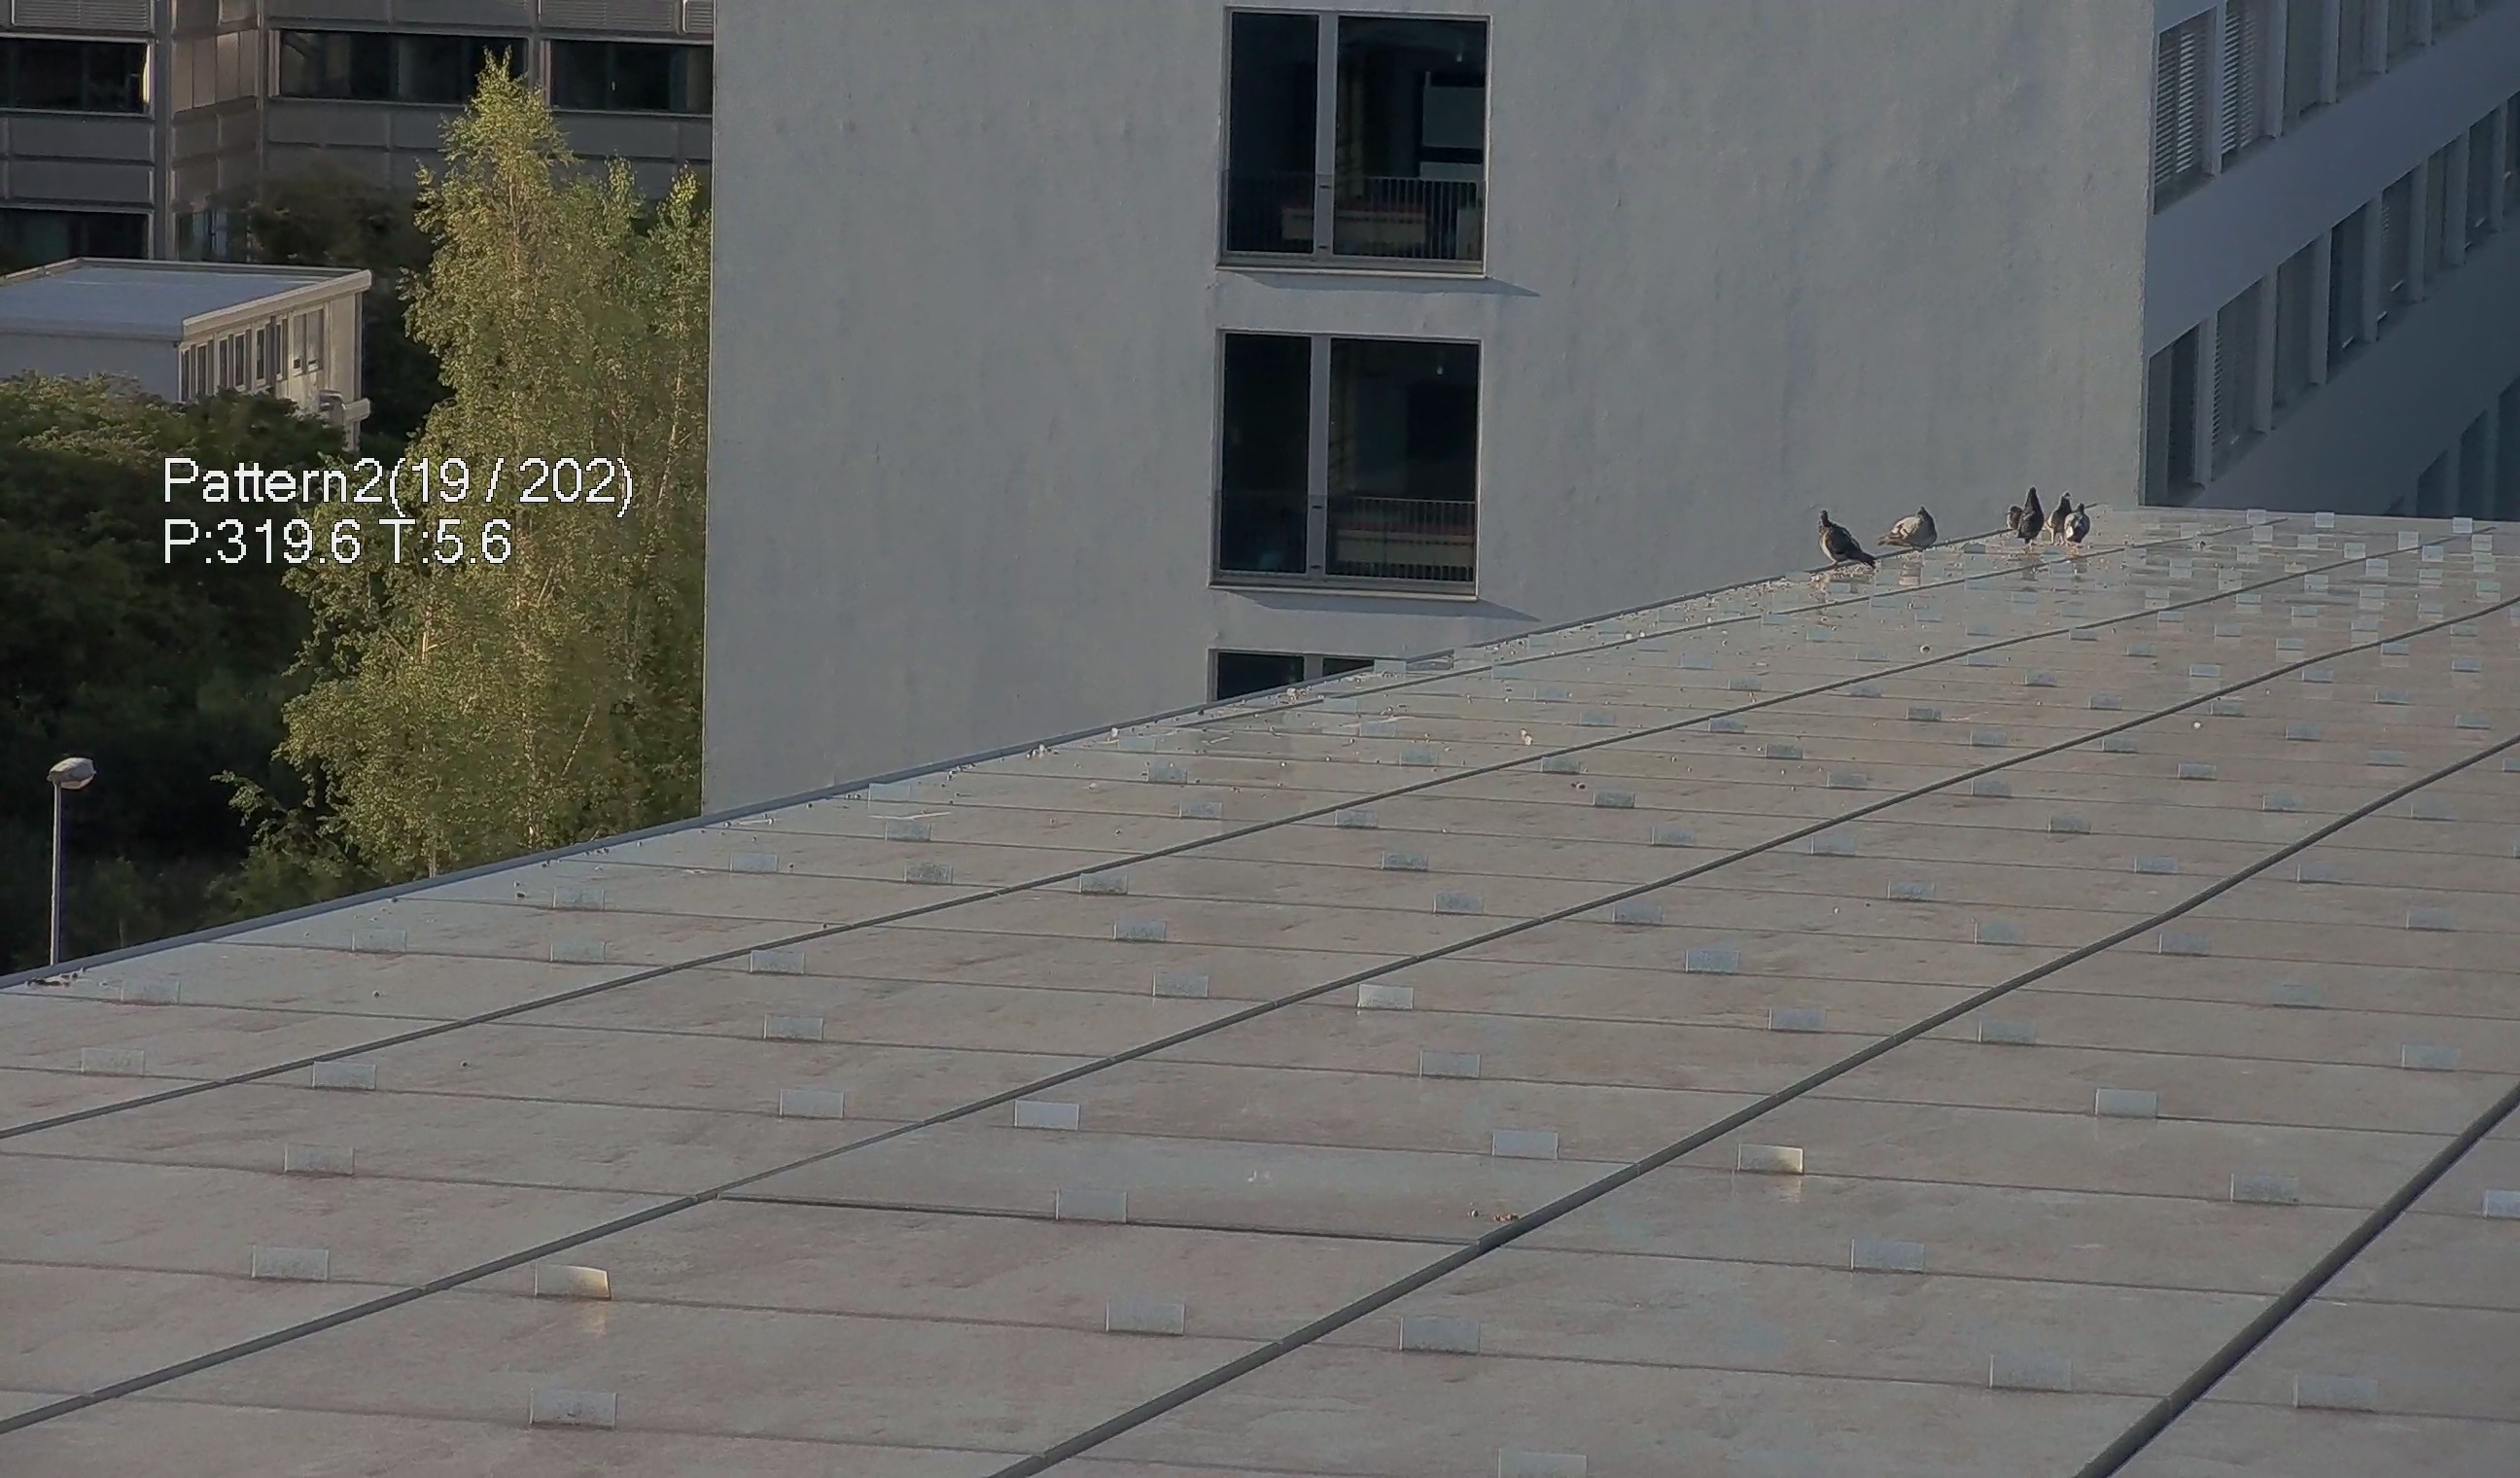Pigeon: (1808, 493, 1882, 579), (1873, 503, 1943, 560), (2017, 487, 2047, 549), (2045, 484, 2073, 549), (2063, 503, 2096, 549), (2003, 503, 2022, 533)
